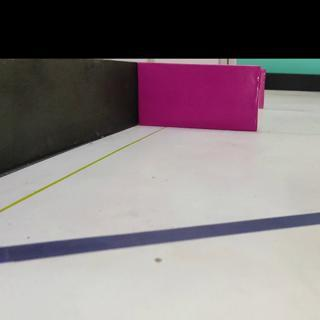xparking: (143, 65, 258, 130)
